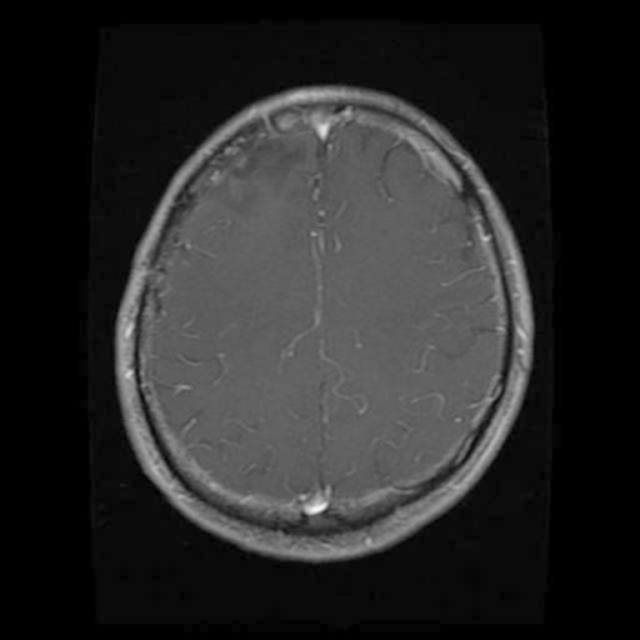pituitary tumor: (218, 134, 290, 208)
